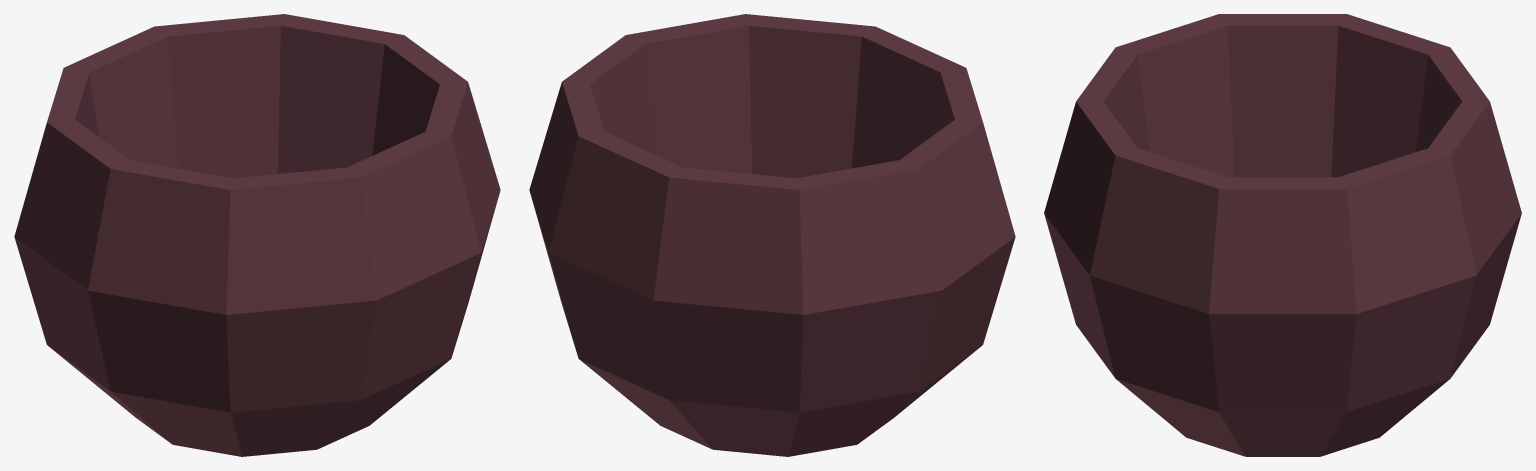
File: furniture-pot-tiny-empty.glb
3 views of the same model, side by side, from view 1: azimuth 30°, elevation 25°; view 2: azimuth 150°, elevation 25°; view 3: azimuth 270°, elevation 25° (orthographic).
Visible parts, largest first — view 1: pot-tiny-empty; view 2: pot-tiny-empty; view 3: pot-tiny-empty.
Boxes of the visible parts, <box> form: pot-tiny-empty: <box>14,14,500,456</box>; pot-tiny-empty: <box>529,14,1015,456</box>; pot-tiny-empty: <box>1044,14,1521,456</box>.
Bounding box in the file's own units: 0.12 × 0.0845 × 0.12.
